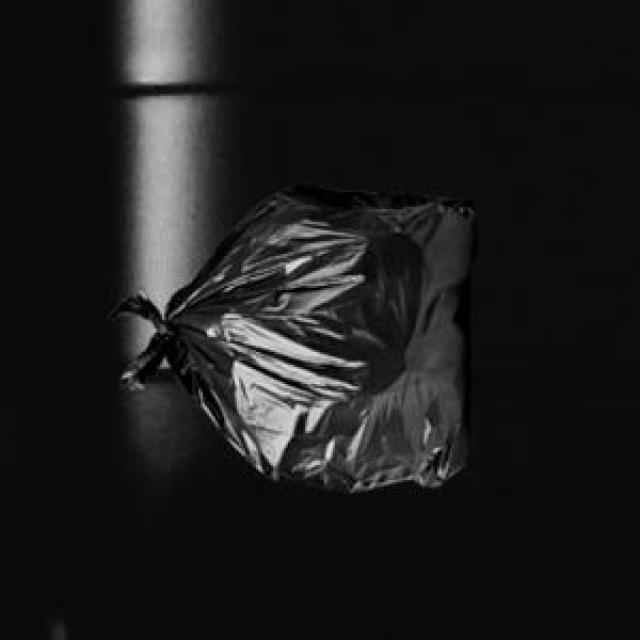miscellaneous trash: (105, 181, 472, 486)
